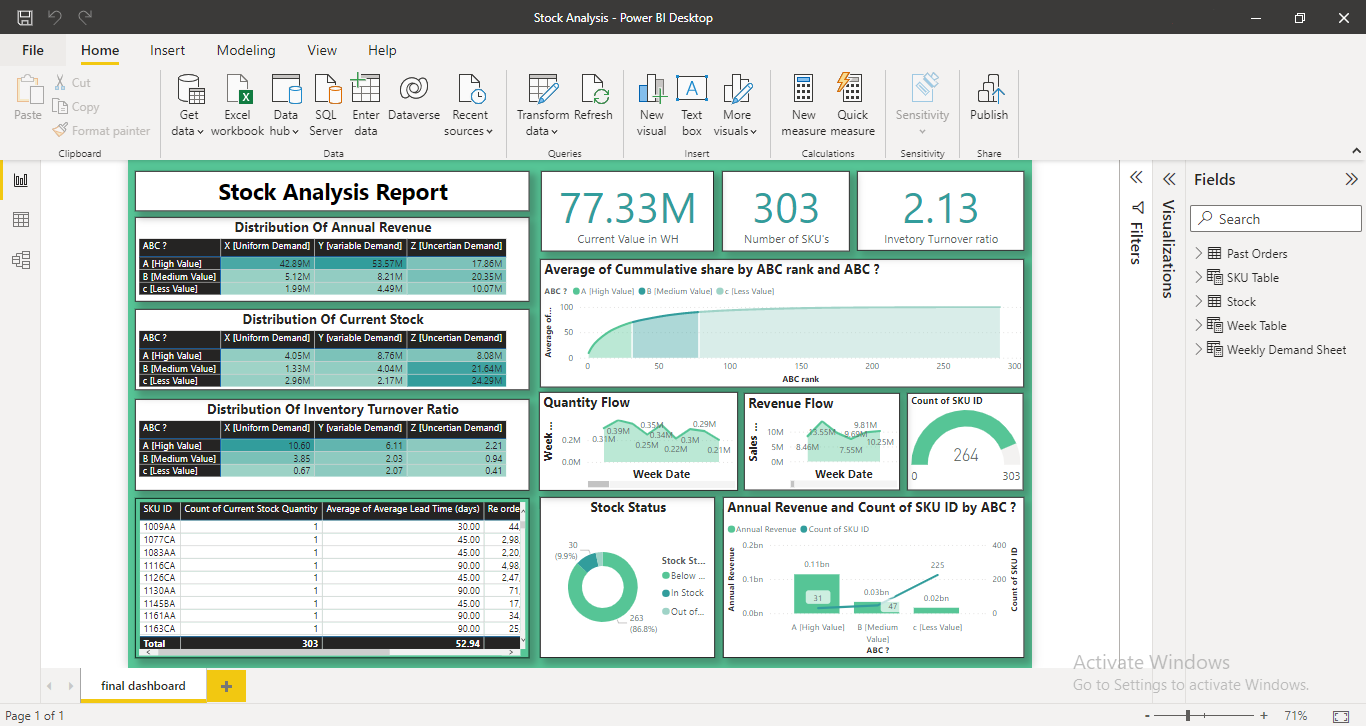

The dashboard page shown, as its layout file describes it:
{"tool":"powerbi","page":{"name":"final dashboard ","canvas":[1280,720],"ordinal":0},"visuals":[{"type":"areaChart","fields":{"Category":["Stock.ABC rank"],"Y":["Avg(Stock.Cummulative share)"],"Series":["Stock.ABC ?"]},"box":[583.7,139.9,686.2,182.1],"z":0},{"type":"pivotTable","title":"Distribution Of Annual Revenue","fields":{"Rows":["Stock.ABC ?"],"Columns":["Stock.XYZ ?"],"Values":["Sum(Stock.Annual Revenue)"]},"box":[9.5,80.9,559.3,120.2],"z":1000},{"type":"pivotTable","title":"Distribution Of Inventory Turnover Ratio","fields":{"Rows":["Stock.ABC ?"],"Columns":["Stock.XYZ ?"],"Values":["Stock.Invetory Turnover ratio"]},"box":[9.5,339.2,559.3,129.7],"z":2000},{"type":"pivotTable","title":"Distribution Of Current Stock","fields":{"Rows":["Stock.ABC ?"],"Columns":["Stock.XYZ ?"],"Values":["Sum(Stock.Value in WH)"]},"box":[9.5,211.8,559.3,115.4],"z":3000},{"type":"card","fields":{"Values":["Stock.Invetory Turnover ratio"]},"box":[1033,15.5,236.8,113.1],"z":4000},{"type":"card","fields":{"Values":["CountNonNull(Stock.SKU ID)"]},"box":[842.6,15.5,180.9,114.2],"z":5000},{"type":"card","fields":{"Values":["Sum(Stock.Value in WH)"]},"box":[585.5,15.5,245.2,114.2],"z":6000},{"type":"tableEx","fields":{"Values":["Stock.SKU ID","Stock.Current Stock Quantity","Stock.Average Lead Time (days)","Stock.Re order point","Stock.Safety Stock","Stock.Stock Status"]},"box":[9.5,478.4,559.3,227.3],"z":7000},{"type":"gauge","title":"Count of SKU ID","fields":{"Y":["Stock.SKUs to Reorder"],"MaxValue":["Count(Stock.SKU ID)"]},"box":[1104.4,330.8,165.4,138],"z":8000},{"type":"donutChart","title":"Stock Status","fields":{"Y":["CountNonNull(Stock.SKU ID)"],"Category":["Stock.Stock Status"]},"box":[583.7,477.6,248.4,227.9],"z":9000},{"type":"areaChart","title":"Quantity Flow","fields":{"Category":["Weekly Demand Sheet.Week Date"],"Y":["Sum(Weekly Demand Sheet.Weeks Demand)"]},"box":[583.1,328.5,282,140.4],"z":10000},{"type":"areaChart","title":"Revenue Flow","fields":{"Y":["Sum(Weekly Demand Sheet.Sales Amount)"],"Category":["Weekly Demand Sheet.Week Date"]},"box":[873.5,329.7,221.4,138],"z":11000},{"type":"lineStackedColumnComboChart","fields":{"Category":["Stock.ABC ?"],"Y":["Sum(Stock.Annual Revenue)"],"Y2":["CountNonNull(Stock.SKU ID)"]},"box":[843,477.6,426.9,227.9],"z":12000},{"type":"textbox","box":[9.5,15.5,559.3,57.1],"z":13000}]}

Visuals, with their boxes on the page's 1280x720 design canvas (x1, y1, x2, y2). These are canvas units, not pixel positions in the 1366x726 screenshot, which may show the page scaled, cropped or inside an application window:
areaChart - Stock.ABC rank x Avg(Stock.Cummulative share): 584:140:1270:322
"Distribution Of Annual Revenue" pivotTable: 10:81:569:201
"Distribution Of Inventory Turnover Ratio" pivotTable: 10:339:569:469
"Distribution Of Current Stock" pivotTable: 10:212:569:327
card - Stock.Invetory Turnover ratio: 1033:16:1270:129
card - CountNonNull(Stock.SKU ID): 843:16:1024:130
card - Sum(Stock.Value in WH): 586:16:831:130
tableEx - Stock.SKU ID x Stock.Current Stock Quantity: 10:478:569:706
"Count of SKU ID" gauge: 1104:331:1270:469
"Stock Status" donutChart: 584:478:832:706
"Quantity Flow" areaChart: 583:328:865:469
"Revenue Flow" areaChart: 874:330:1095:468
lineStackedColumnComboChart - Stock.ABC ? x Sum(Stock.Annual Revenue): 843:478:1270:706
textbox: 10:16:569:73
